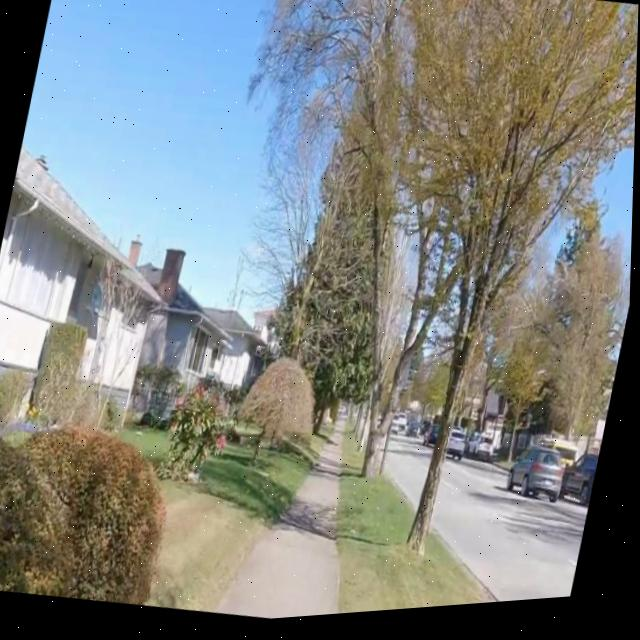Automobile: (509, 453, 567, 510), (564, 462, 601, 514), (448, 436, 467, 467), (425, 421, 441, 452)
Road: (435, 465, 591, 610), (389, 446, 432, 513)
Sidewalk: (215, 441, 344, 623)
